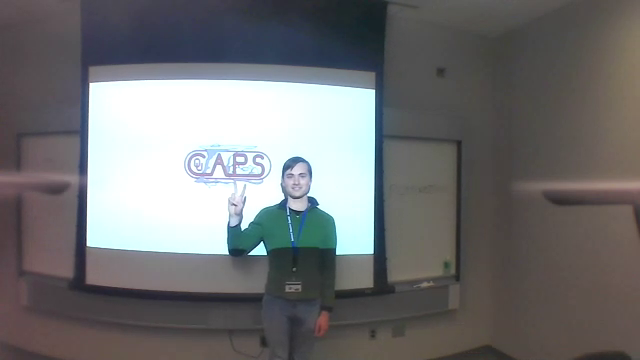peace: (224, 177, 249, 215)
